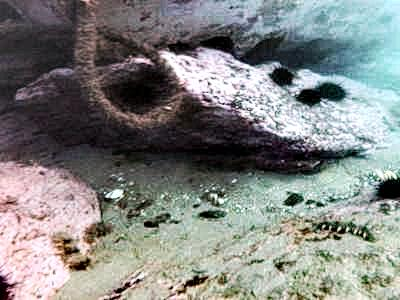urchin: (114, 71, 168, 111), (318, 80, 342, 100), (270, 66, 294, 85), (381, 176, 396, 198), (300, 88, 319, 103)
